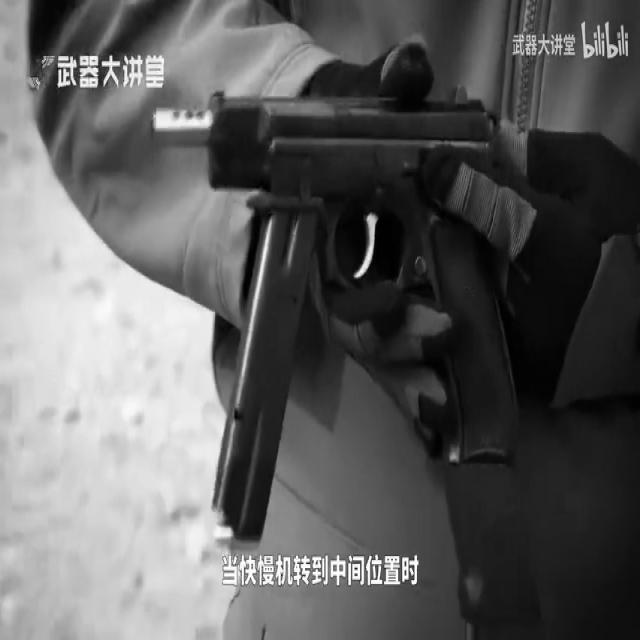Sub-machine-gun: (140, 64, 575, 640)
